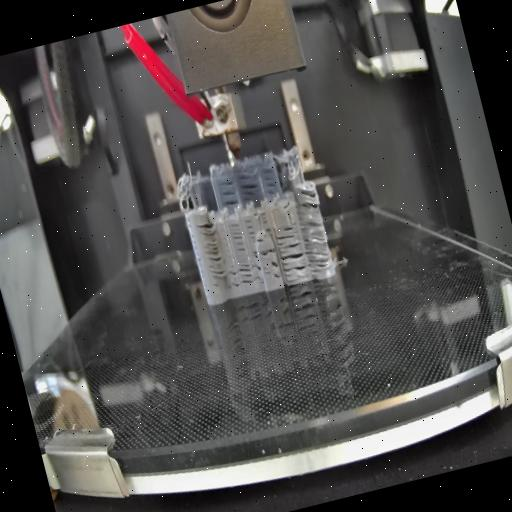cracks: (195, 217, 229, 283), (298, 218, 334, 272), (276, 240, 310, 286), (226, 259, 254, 290), (216, 175, 240, 210), (235, 170, 261, 200), (294, 183, 320, 212), (248, 248, 266, 286), (259, 166, 279, 198), (228, 220, 246, 254), (272, 224, 296, 242), (243, 215, 257, 239), (258, 210, 272, 232), (270, 259, 282, 281), (260, 246, 275, 256), (255, 235, 266, 244)
